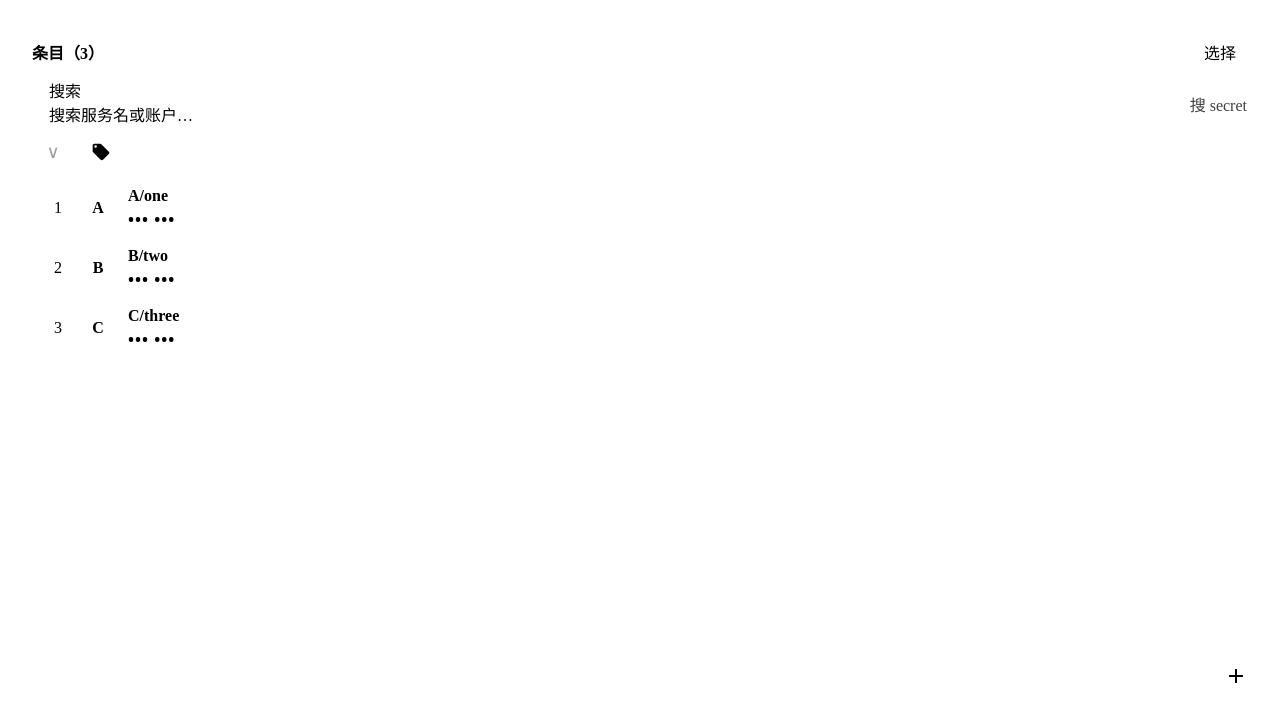
Test case: CodesPage 序号定位移动（④C） › 真机缺陷修复（2026-10-06 e2e）：编辑器打开即聚焦并全选（真实键入直接生效）
What coordinates should you click on to do the following:
click the button with class "index-num" showing "1"
I would click on:
 (58, 208)
Its box is [54, 199, 62, 216].
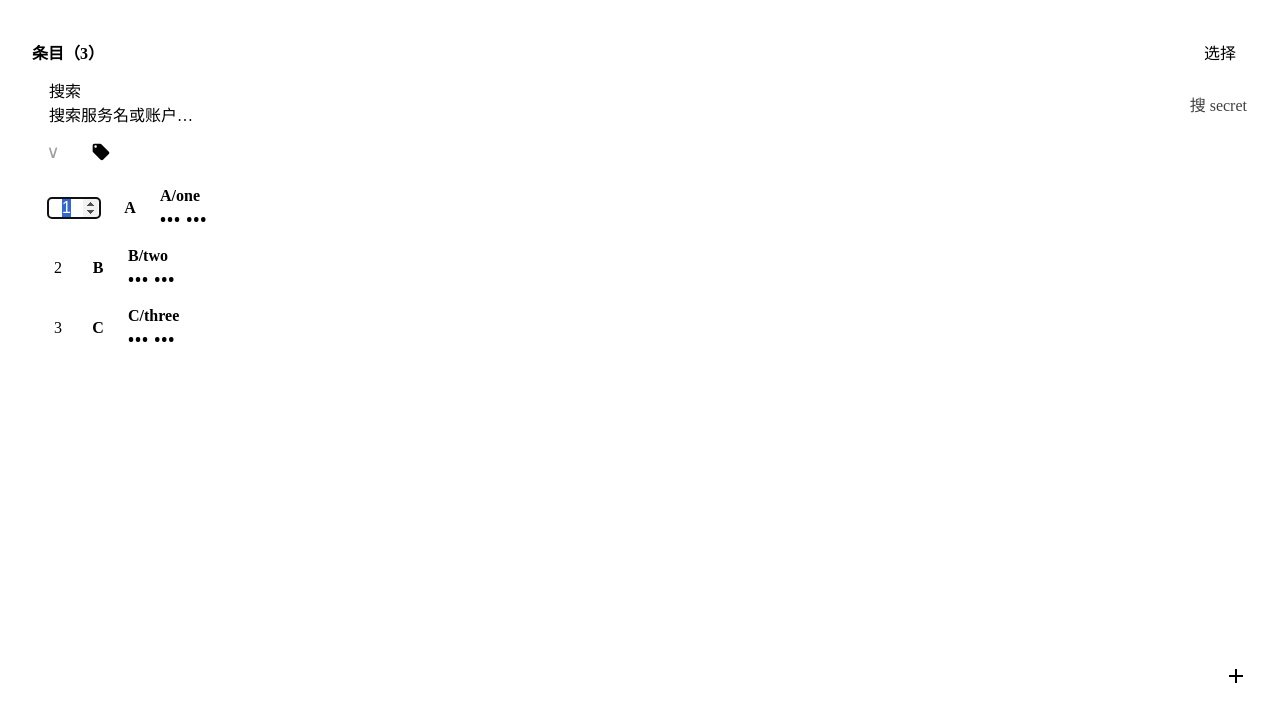
Now the number field with class "index-input" is shown, box [48, 198, 100, 218]
